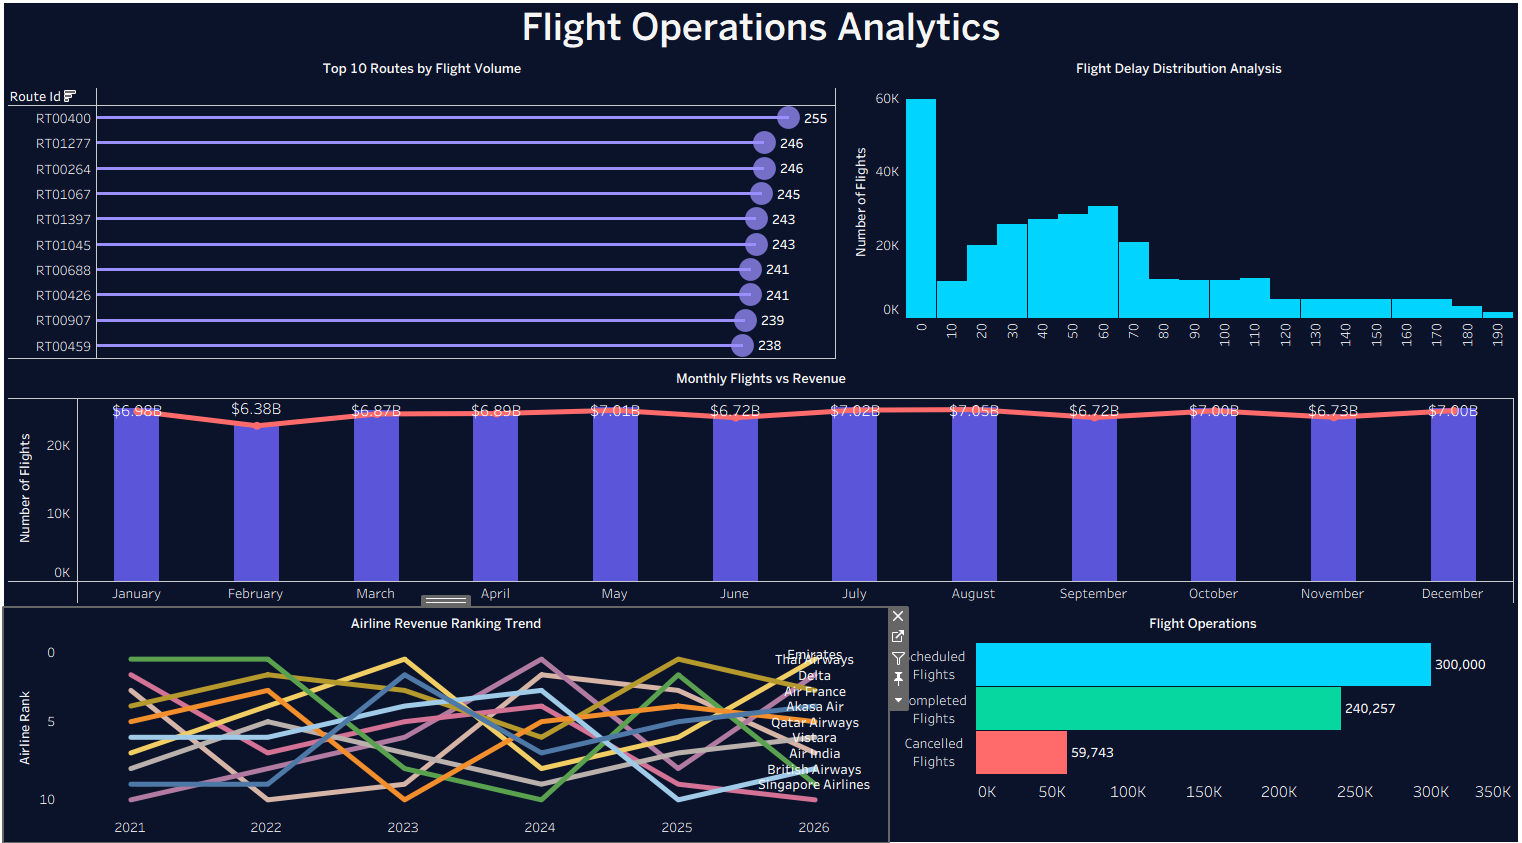

Layout of this report page (visuals, bound fields, positions):
{"tool":"tableau","page":{"name":"Flight Operations Analytics","canvas":[1530,855],"ordinal":4},"visuals":[{"type":"title","box":[8,8,1514,50]},{"type":"dashboard-object","box":[25,15,106,39]},{"type":"worksheet","title":"Top 10 Routes - Lollipop","mark":"Bar","rows":["route_id"],"cols":["flight_id","flight_id"],"box":[8,58,836,310]},{"type":"worksheet","title":"Flight Delay Distribution Analysis","mark":"Bar","rows":["flight_id"],"cols":["Delay Minutes (bin)"],"box":[844,58,677.8,310]},{"type":"worksheet","title":"Flights vs Revenue Combo","mark":"Bar","rows":["flight_id","revenue"],"cols":["month_name"],"box":[8,368,1514,245]},{"type":"worksheet","title":"Airline Ranking Trend","mark":"Line","cols":["year"],"box":[8,613,884,234]},{"type":"worksheet","title":"Flight Completion Funnel","mark":"Bar","box":[892,613,630,234]}]}

Visuals, with their boxes in screenshot pixels (x1, y1, x2, y2), scaled from the page's 1530x855 canvas onto the 1522x843 screenshot:
title: <region>8, 8, 1514, 57</region>
dashboard-object: <region>25, 15, 130, 53</region>
"Top 10 Routes - Lollipop" worksheet (Bar marks): <region>8, 57, 840, 363</region>
"Flight Delay Distribution Analysis" worksheet (Bar marks): <region>840, 57, 1514, 363</region>
"Flights vs Revenue Combo" worksheet (Bar marks): <region>8, 363, 1514, 604</region>
"Airline Ranking Trend" worksheet (Line marks): <region>8, 604, 887, 835</region>
"Flight Completion Funnel" worksheet (Bar marks): <region>887, 604, 1514, 835</region>
